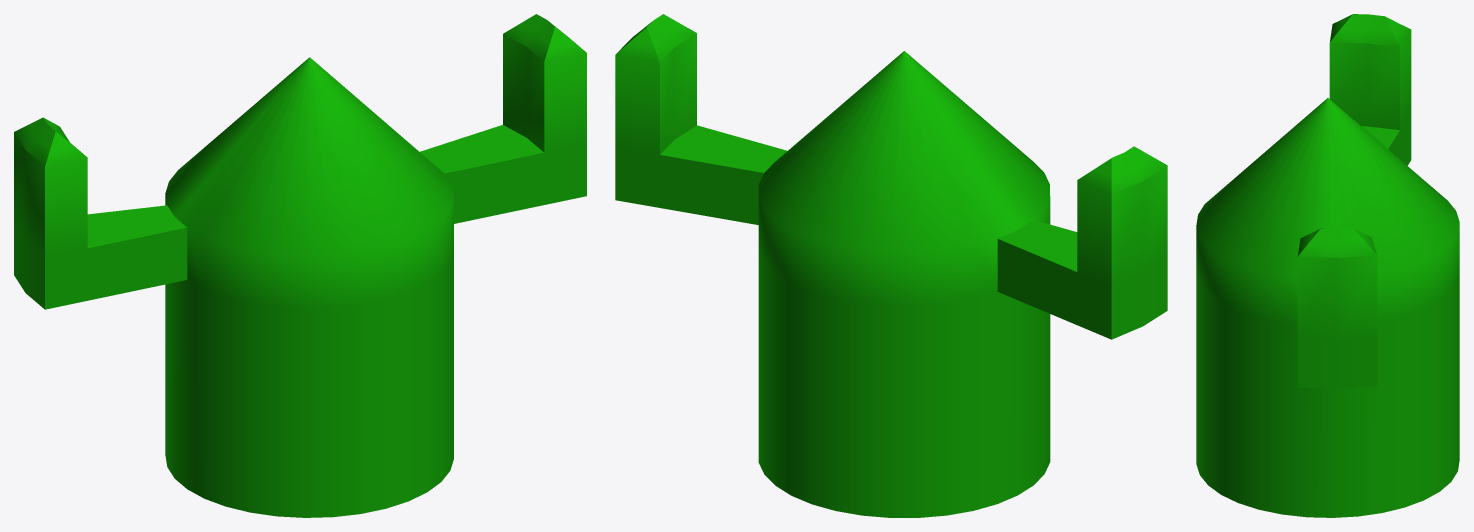
File: brutals_hero.dae
The picture shows the model from 3 angles, left to right: view 1: azimuth 30°, elevation 25°; view 2: azimuth 150°, elevation 25°; view 3: azimuth 270°, elevation 25°; orthographic projection. The views are drawn at different scales.
Parts seen in each view (by area): view 1: Cylinder; view 2: Cylinder; view 3: Cylinder.
Part boxes in pixels (box(x1,y1,x2,y2)): Cylinder: box(14, 14, 586, 517); Cylinder: box(615, 14, 1167, 517); Cylinder: box(1196, 14, 1459, 517).
Bounding box in the file's own units: 2.1 × 1.53 × 0.9994.
